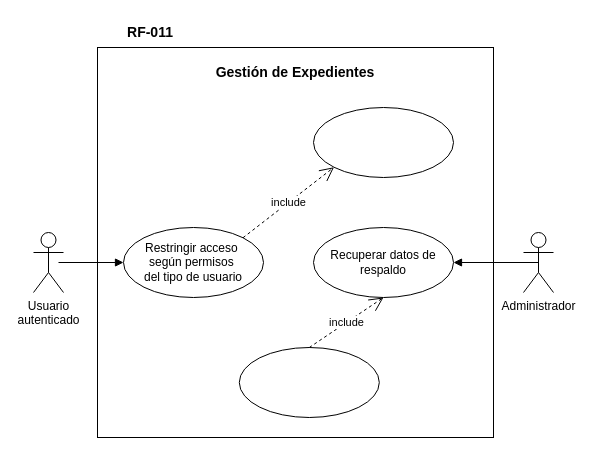
Some shapes in this 592 by 455 pixel diagram are drawn without their labels. The box of each missing label's shape, as (x1, y1, x2, y2) in pixels:
Realizar datos de respaldo: (238, 346, 379, 418)
Registrar intento de acceso no autorizado: (312, 106, 454, 178)
